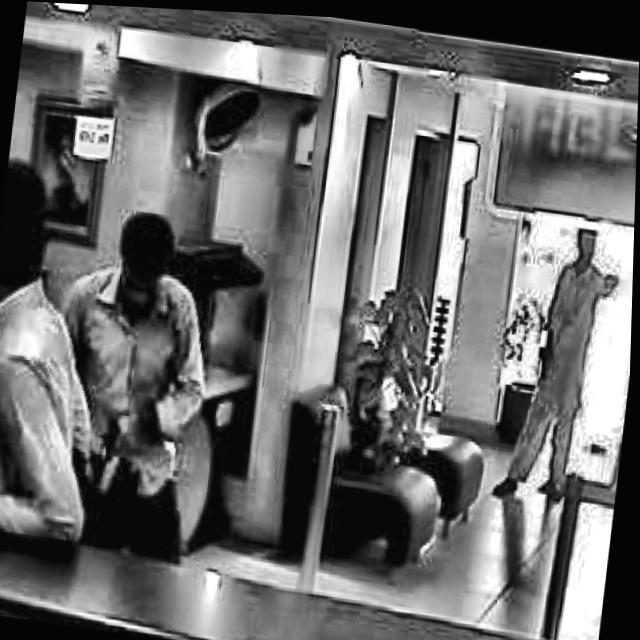robbery: (35, 193, 231, 566), (493, 200, 629, 507)
